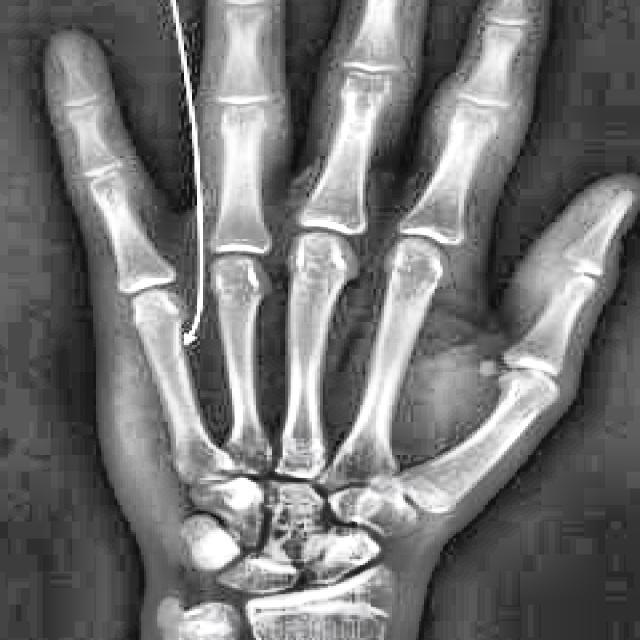fracture: (163, 345, 189, 378)
